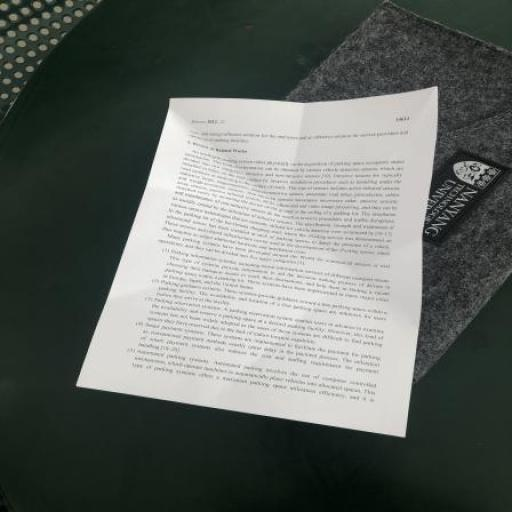paper: (43, 24, 512, 480)
